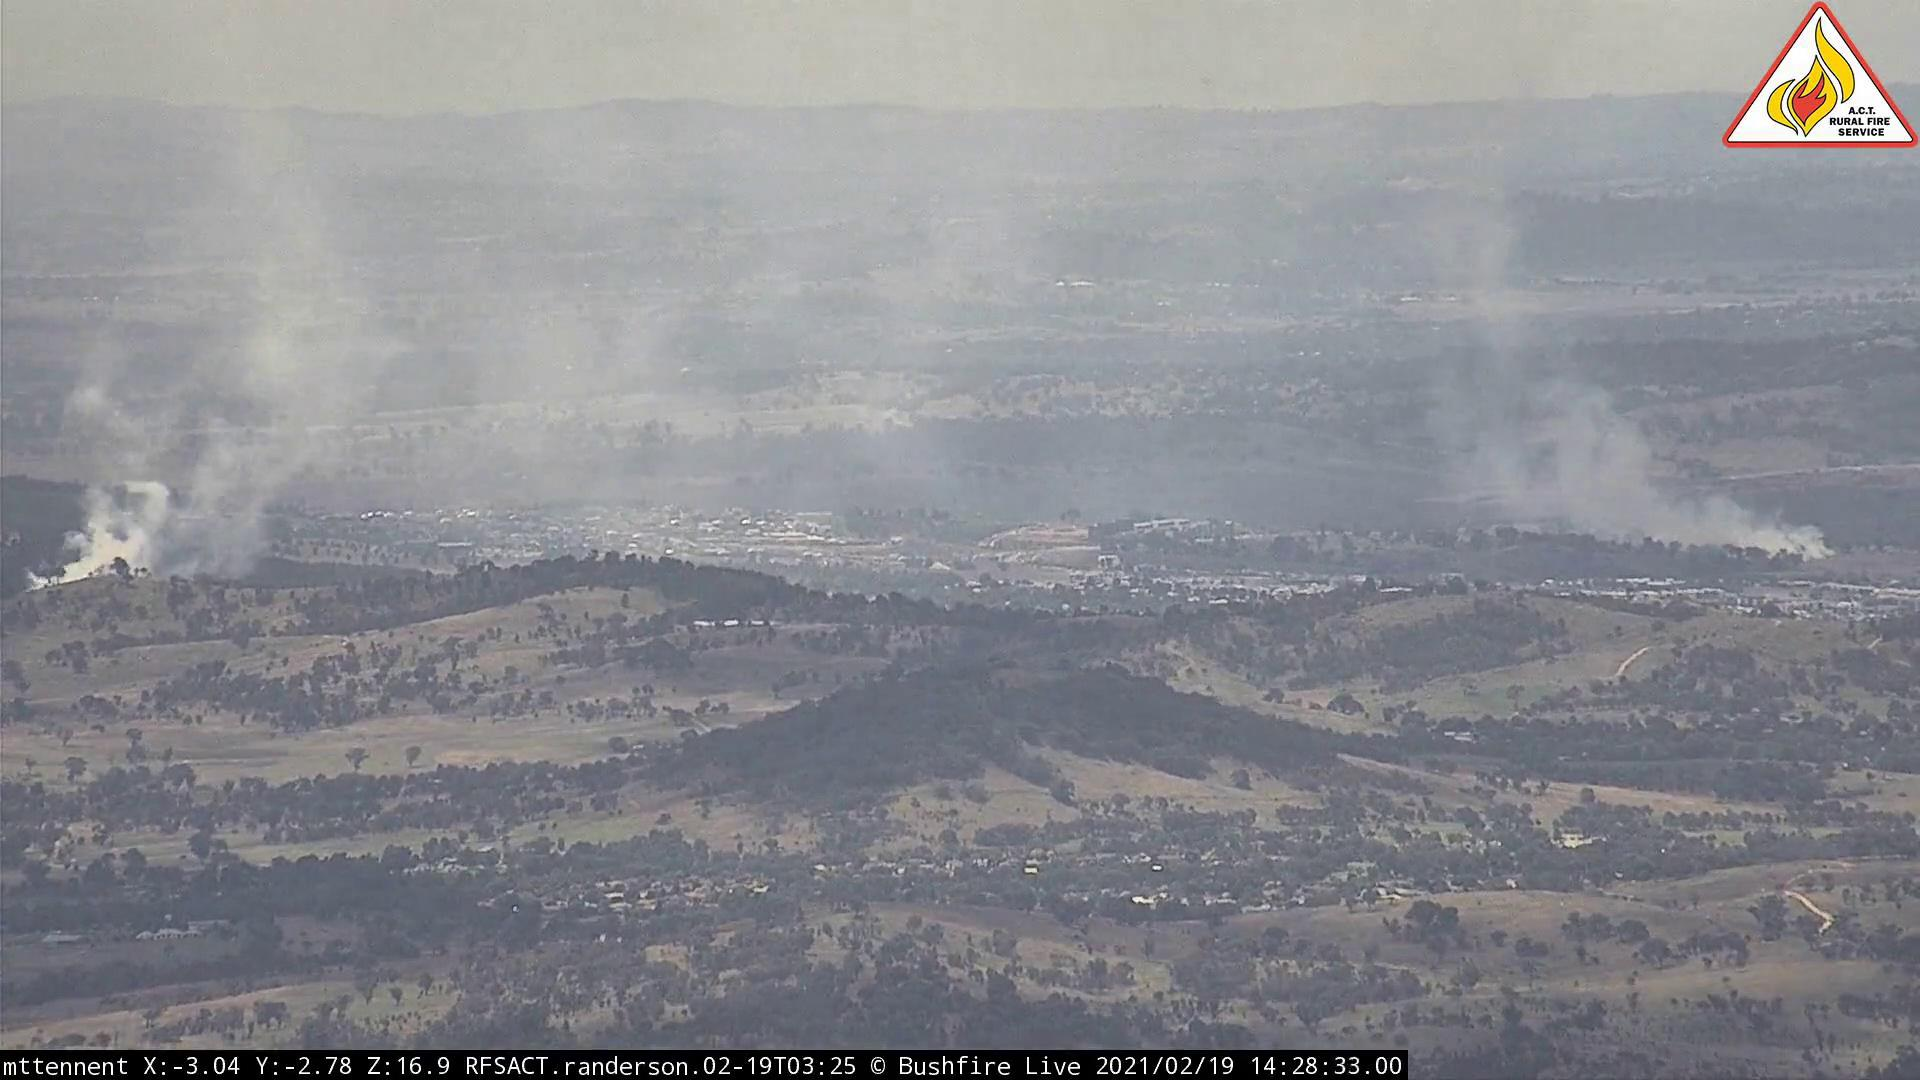Smoke: (24, 251, 436, 618), (1396, 235, 1842, 574)
